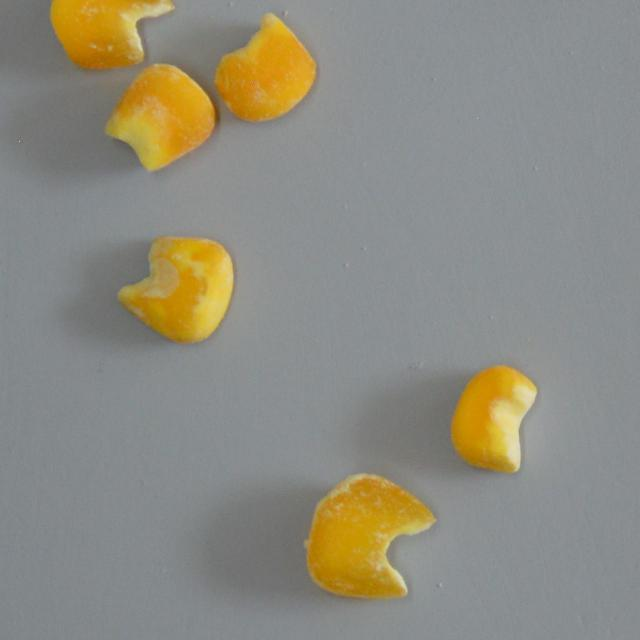no_canjicado: (447, 364, 539, 475)
pelicula: (304, 470, 435, 598), (114, 236, 235, 346), (102, 62, 216, 173), (213, 11, 318, 124), (46, 0, 176, 68)
